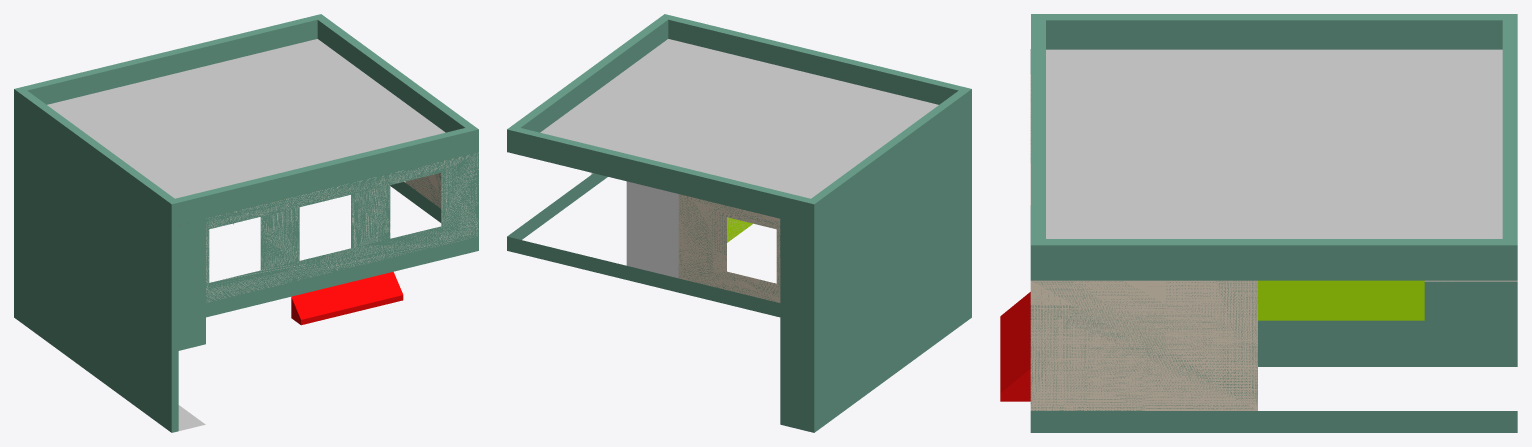
3 views of the same model, side by side, from view 1: azimuth 30°, elevation 25°; view 2: azimuth 150°, elevation 25°; view 3: azimuth 270°, elevation 25° (orthographic). The views are drawn at different scales.
Visible parts, largest first — view 1: SketchUp_005; view 2: SketchUp_005; view 3: SketchUp_005.
Boxes of the visible parts, x1=… form: SketchUp_005: x1=14, y1=14, x2=478, y2=432; SketchUp_005: x1=507, y1=14, x2=971, y2=432; SketchUp_005: x1=1000, y1=14, x2=1517, y2=432.
Size of the model in its own units: 9 by 8.5 by 6.4.
